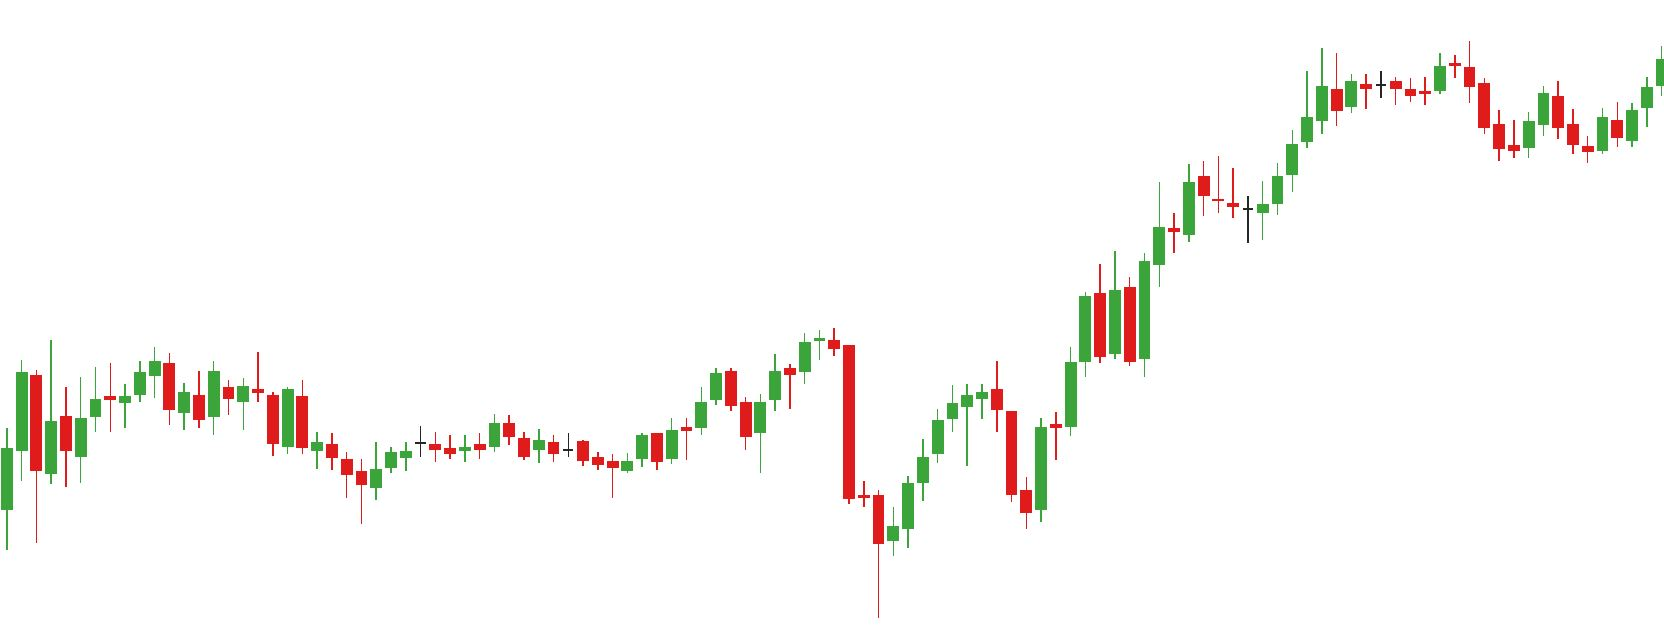buy: (604, 412, 914, 623)
